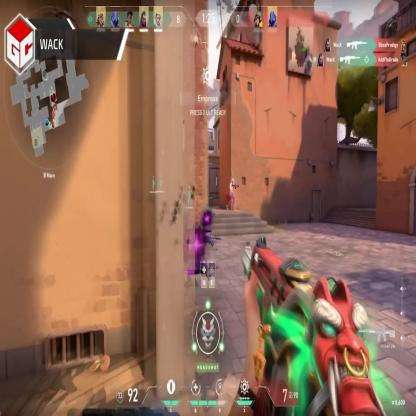enemy: (179, 192, 189, 258), (228, 176, 236, 214)
enemy_head: (180, 192, 186, 208), (232, 178, 235, 185)
